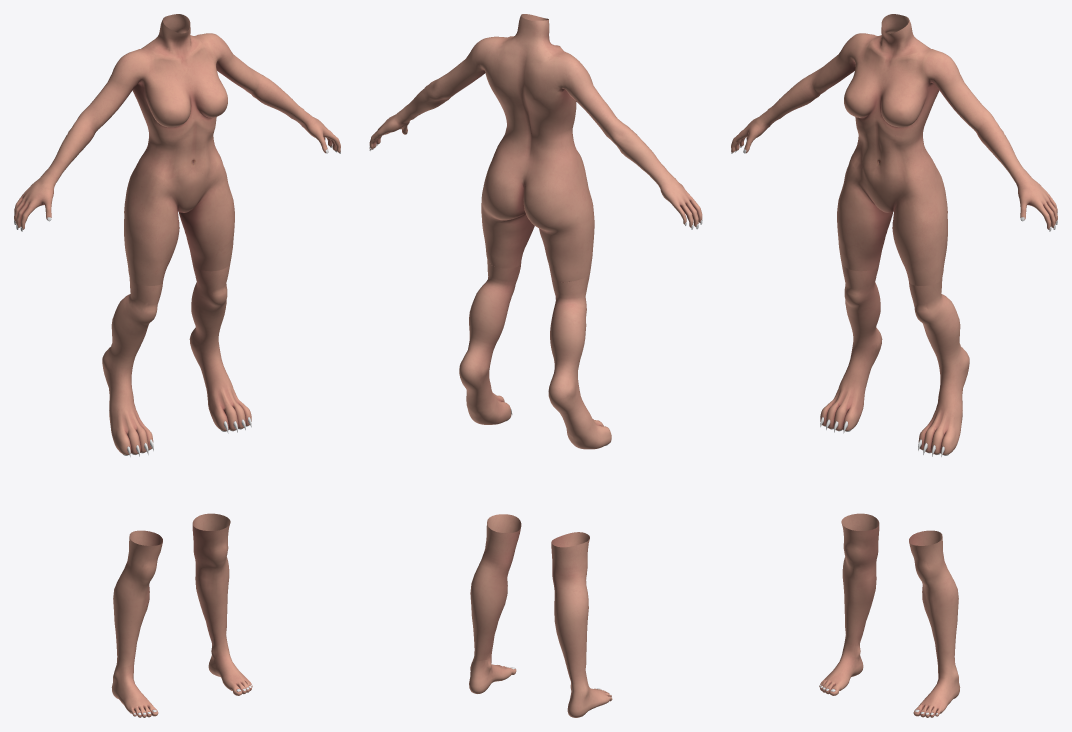
Rendered from MyBody Substance Painter.fbx.
3 renders of one model, left to right at view 1: azimuth 30°, elevation 25°; view 2: azimuth 150°, elevation 25°; view 3: azimuth 330°, elevation 25°, orthographic.
Parts seen in each view (by area): view 1: Body, DigiLegs, PlantiLegs; view 2: Body, PlantiLegs, DigiLegs; view 3: Body, DigiLegs, PlantiLegs.
Part boxes in pixels (x1,y1,x2,y2): Body: [14, 14, 340, 285]; DigiLegs: [102, 264, 251, 456]; PlantiLegs: [111, 513, 252, 717]; Body: [369, 14, 702, 282]; PlantiLegs: [469, 514, 612, 717]; DigiLegs: [459, 260, 611, 449]; Body: [731, 14, 1057, 285]; DigiLegs: [820, 264, 969, 456]; PlantiLegs: [819, 513, 960, 717].
Bounding box in the file's own units: 129 × 258 × 33.78.
Materials: 6 (1 with a texture image).
